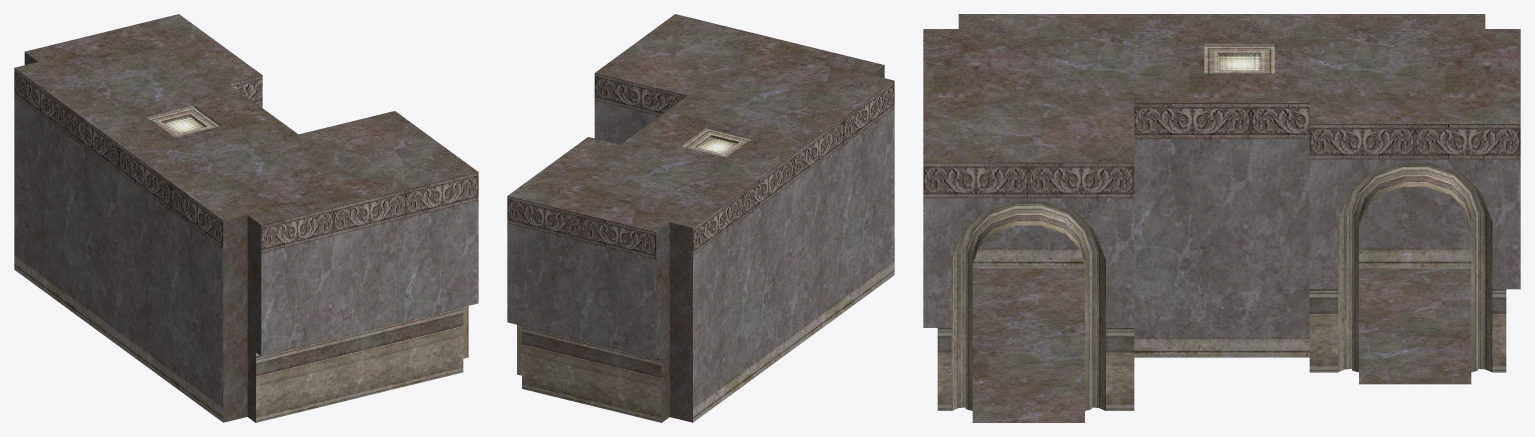
File: ply_tato_capitol_s01_r1_hall1_mesh_r1.fbx
3 renders of one model, left to right at view 1: azimuth 30°, elevation 25°; view 2: azimuth 150°, elevation 25°; view 3: azimuth 270°, elevation 25°, orthographic. The views are drawn at different scales.
Parts seen in each view (by area): view 1: mesh_node; view 2: mesh_node; view 3: mesh_node.
Part boxes in pixels (box(x1,y1,x2,y2)): mesh_node: box(14, 14, 478, 422); mesh_node: box(507, 14, 894, 422); mesh_node: box(923, 14, 1520, 422).
Size of the model in its own units: 5.2 by 4 by 8.5.
